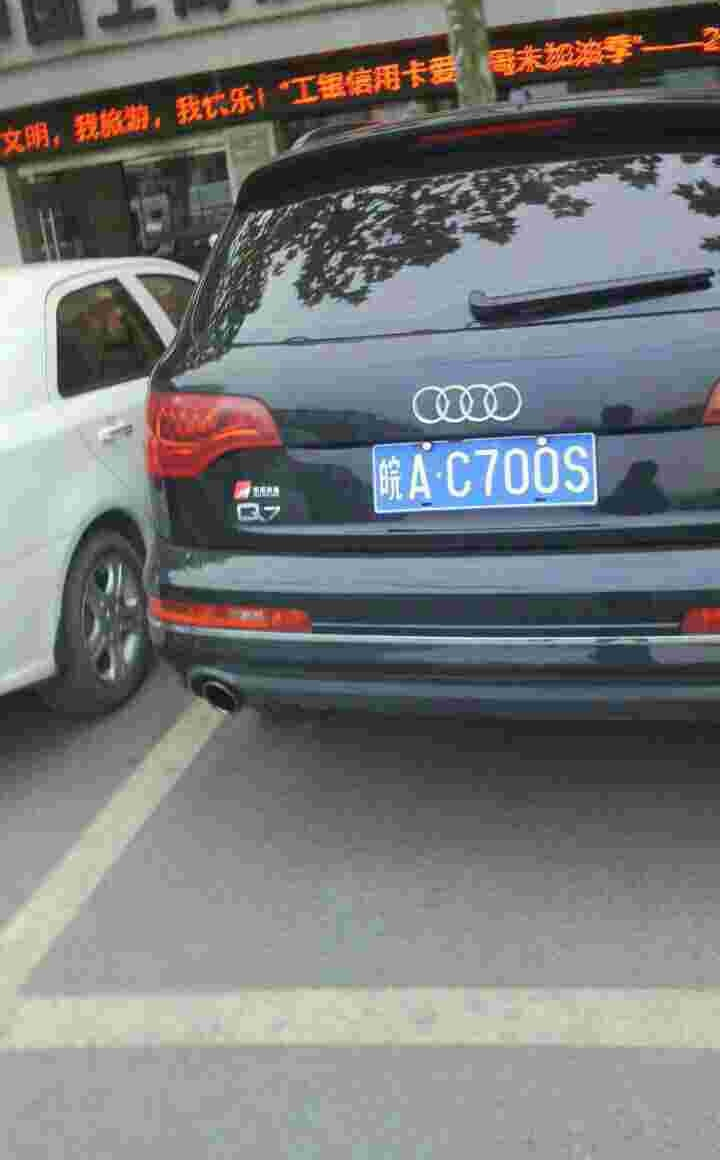plate: (372, 428, 600, 518)
